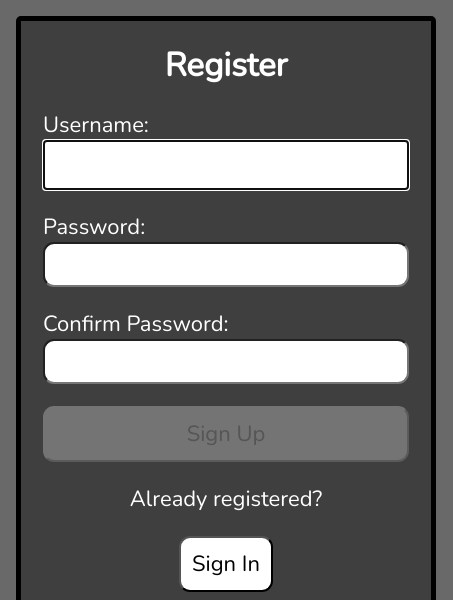
Test: Register Component › handles registration error
The image size is (453, 600).
Type "TakenUser" into the field labelled "Username:" at (226, 165), box [43,140,409,190]
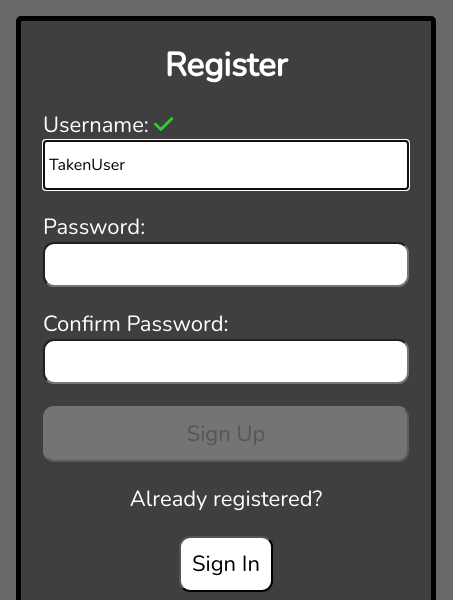
Type "ValidPassword123!" into the password field with test id "password-input" at (226, 264), box [43,242,409,287]
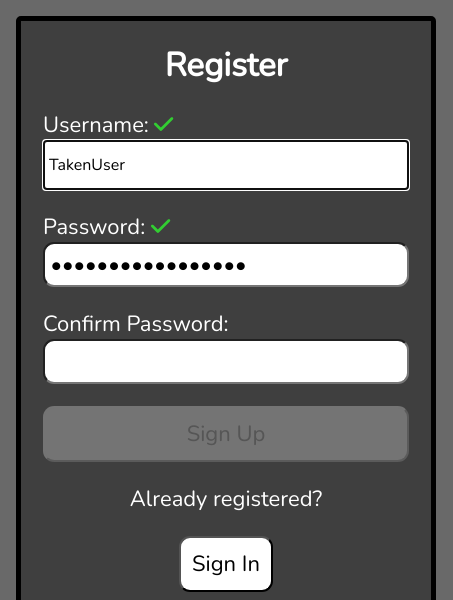
Type "ValidPassword123!" into the password field with test id "confirm-password-input" at (226, 362), box [43,339,409,384]
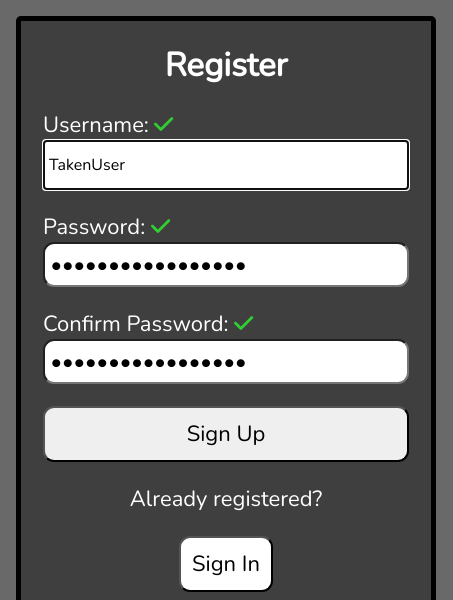
Click the button "Sign Up" at (226, 434), box [43,406,409,462]
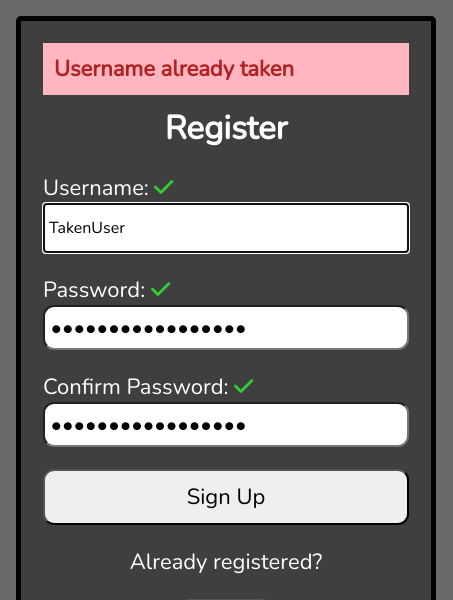
expect the text "Username already taken" is shown: met, box [43,43,409,95]
